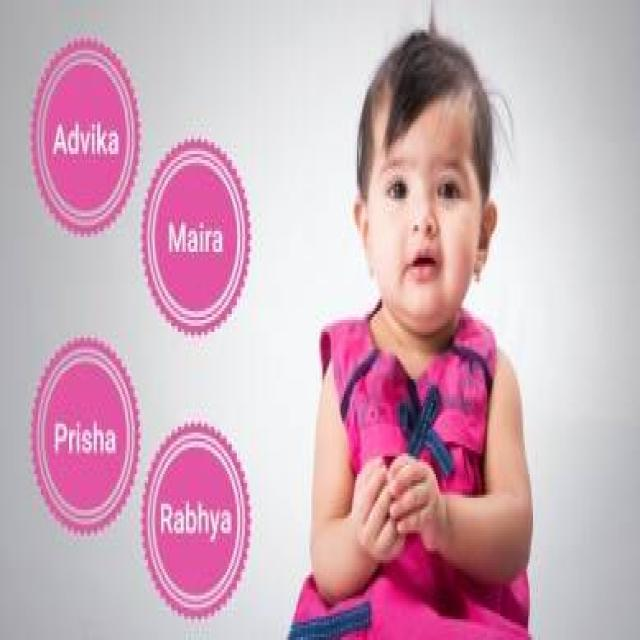non-dog: (299, 22, 532, 635)
